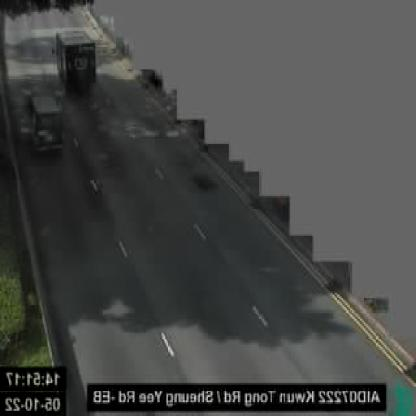Car: (30, 92, 65, 156)
Truck: (56, 30, 96, 88)
